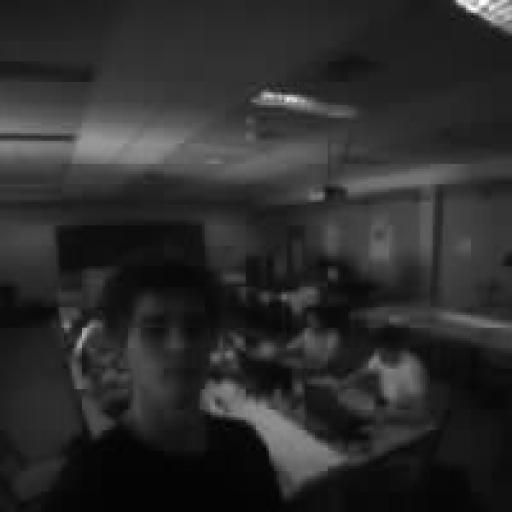human: (47, 259, 284, 511), (338, 326, 430, 422), (69, 314, 122, 390), (285, 308, 340, 371)
